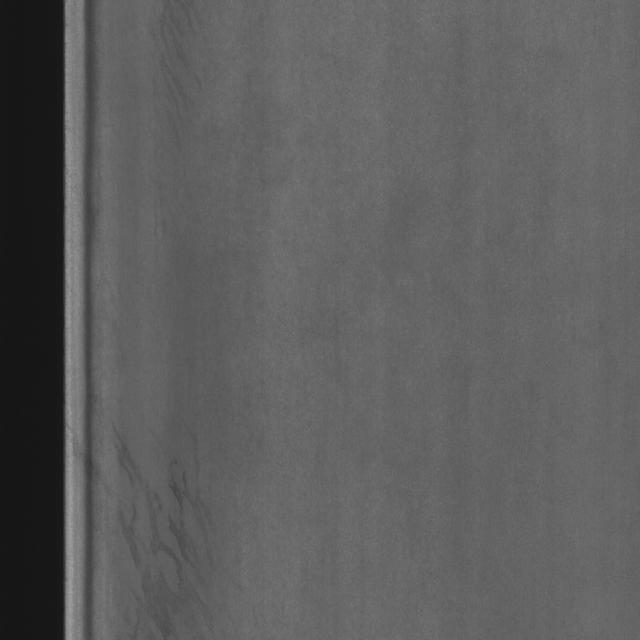water_spot: (113, 388, 219, 640)
